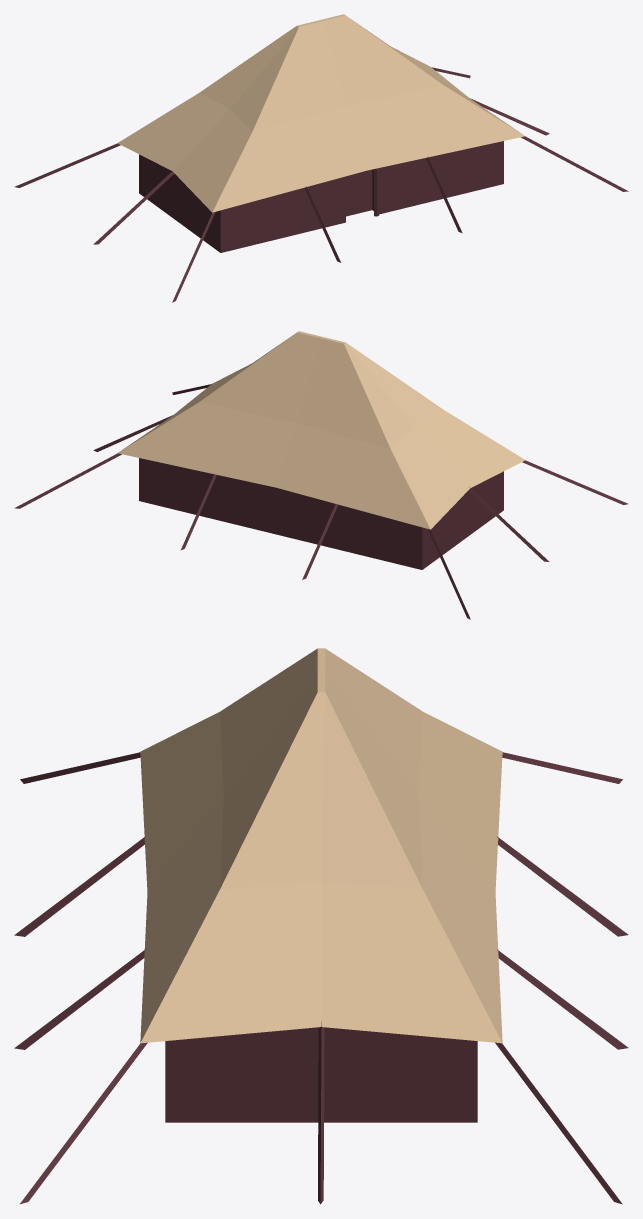
The model's file is tent-bloemfontein-big.fbx.
3 views of the same model, one above another, from view 1: azimuth 30°, elevation 25°; view 2: azimuth 150°, elevation 25°; view 3: azimuth 270°, elevation 25° (orthographic). The views are drawn at different scales.
Parts seen in each view (by area): view 1: tent-bloemfontein-big; view 2: tent-bloemfontein-big; view 3: tent-bloemfontein-big.
Boxes of the visible parts, <box> form: tent-bloemfontein-big: <box>14,14,628,302</box>; tent-bloemfontein-big: <box>14,331,627,619</box>; tent-bloemfontein-big: <box>14,648,628,1204</box>.
Bounding box in the file's own units: 11.29 × 3.99 × 6.9.
